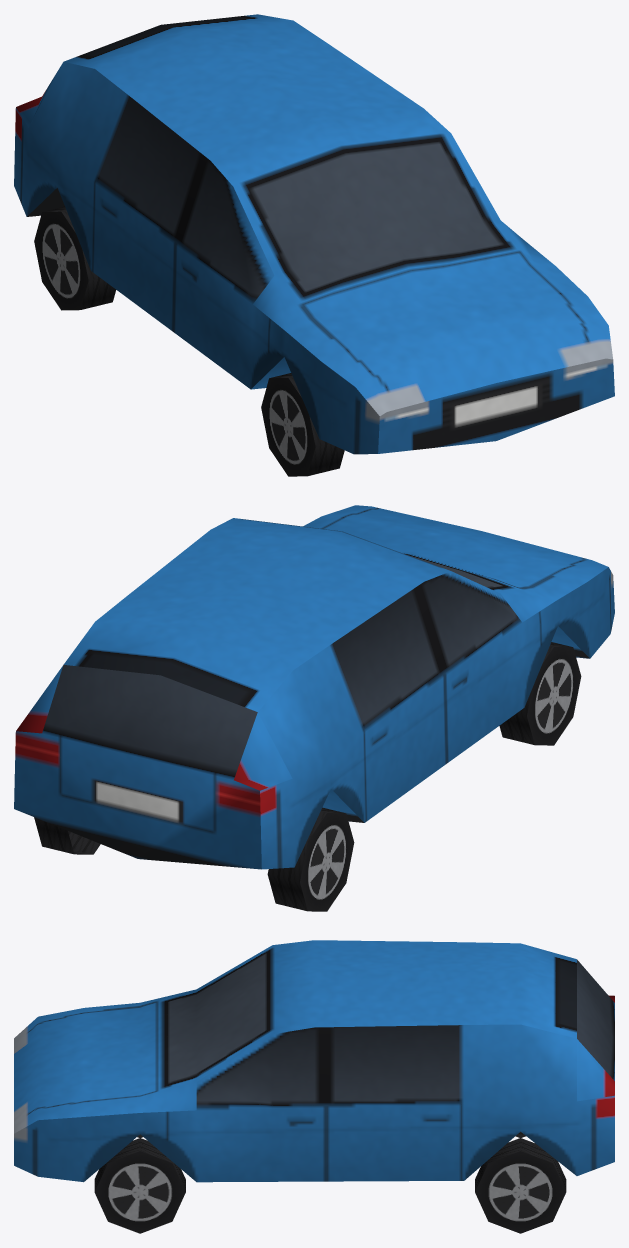
The model's file is SM_Morin_Auto_A_v2_Azzurro_LOD2.fbx.
3 views of the same model, one above another, from view 1: azimuth 30°, elevation 25°; view 2: azimuth 150°, elevation 25°; view 3: azimuth 270°, elevation 25° (orthographic). The views are drawn at different scales.
Parts seen in each view (by area): view 1: SM_Morin_Auto_A_v2_Azzurro_LOD2; view 2: SM_Morin_Auto_A_v2_Azzurro_LOD2; view 3: SM_Morin_Auto_A_v2_Azzurro_LOD2.
Boxes of the visible parts, box(x1,y1,x2,y2) form: SM_Morin_Auto_A_v2_Azzurro_LOD2: box(14, 14, 614, 476); SM_Morin_Auto_A_v2_Azzurro_LOD2: box(14, 505, 614, 911); SM_Morin_Auto_A_v2_Azzurro_LOD2: box(14, 940, 614, 1233).
Size of the model in its own units: 174 by 395 by 150.
1 material, 1 textured.
